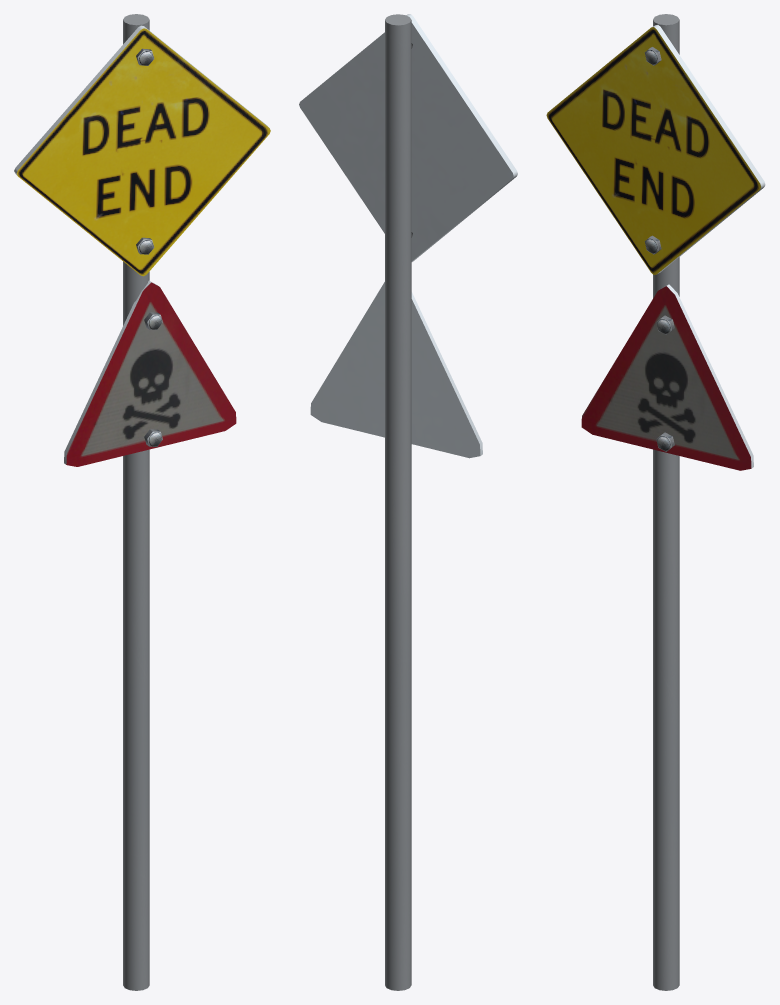
File: StreetSigns_3.fbx
3 renders of one model, left to right at view 1: azimuth 30°, elevation 25°; view 2: azimuth 150°, elevation 25°; view 3: azimuth 330°, elevation 25°, orthographic.
Parts seen in each view (by area): view 1: StreetSigns_3; view 2: StreetSigns_3; view 3: StreetSigns_3.
Part boxes in pixels (x1,y1,x2,y2): StreetSigns_3: (14,14,270,990); StreetSigns_3: (299,14,517,990); StreetSigns_3: (546,14,765,990).
Size of the model in its own units: 1.02 by 4 by 0.1984.
